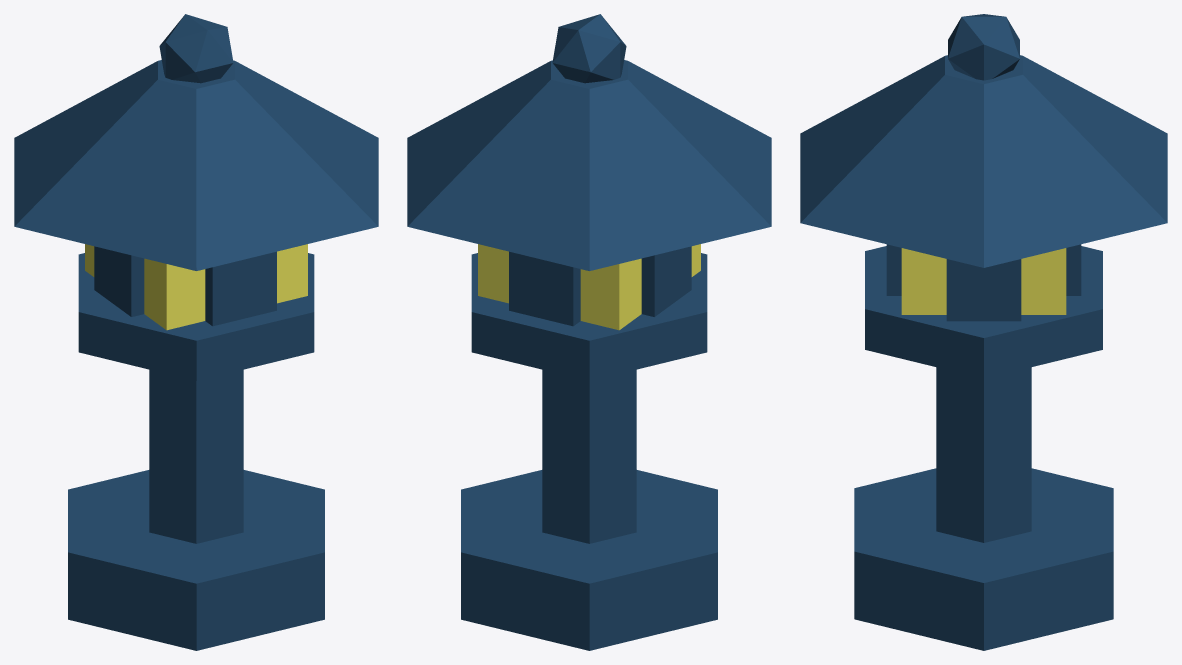
File: lantern.glb
3 views of the same model, side by side, from view 1: azimuth 30°, elevation 25°; view 2: azimuth 150°, elevation 25°; view 3: azimuth 270°, elevation 25° (orthographic).
Parts seen in each view (by area): view 1: Lantern, Box, Pillars2, Pillars; view 2: Lantern, Box, Pillars2, Pillars; view 3: Lantern, Box, Pillars, Pillars2.
Boxes of the visible parts, x1=… form: Lantern: x1=14, y1=14, x2=378, y2=650; Box: x1=85, y1=244, x2=307, y2=330; Pillars2: x1=205, y1=251, x2=276, y2=326; Pillars: x1=94, y1=246, x2=144, y2=316; Lantern: x1=407, y1=14, x2=771, y2=650; Box: x1=478, y1=244, x2=700, y2=330; Pillars2: x1=509, y1=251, x2=580, y2=326; Pillars: x1=641, y1=246, x2=691, y2=316; Lantern: x1=800, y1=14, x2=1167, y2=650; Box: x1=901, y1=248, x2=1066, y2=314; Pillars: x1=946, y1=259, x2=1021, y2=321; Pillars2: x1=886, y1=244, x2=1081, y2=295.
Size of the model in its own units: 1.7 by 2.52 by 1.47.
